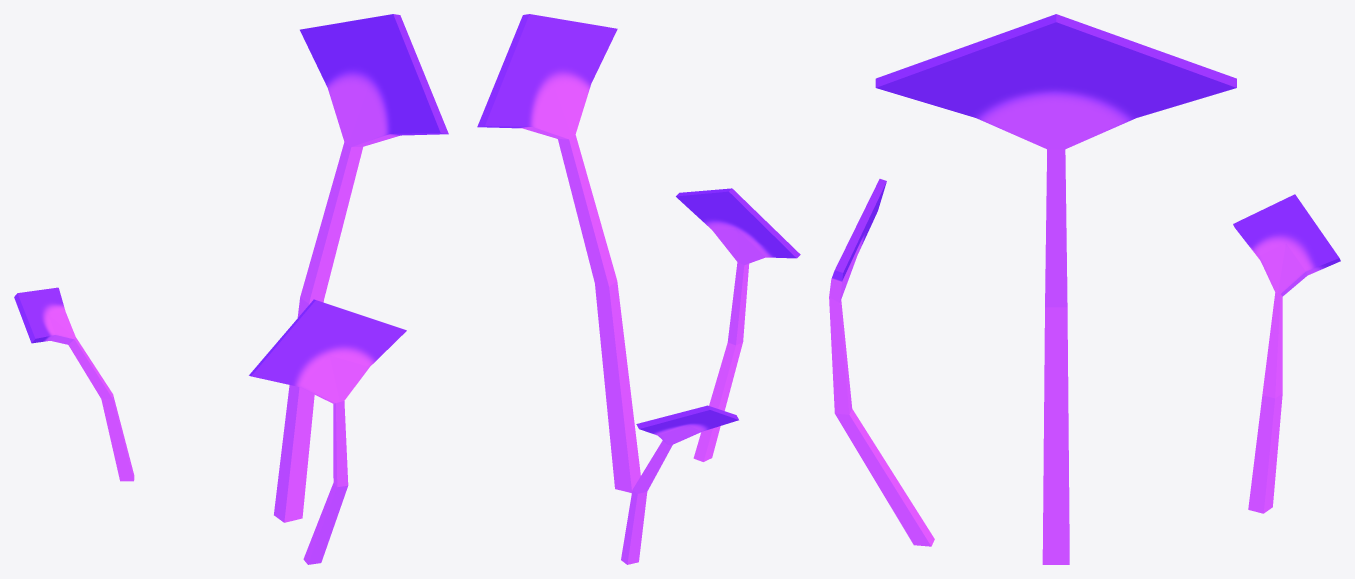
File: Herbe_A.fbx
The picture shows the model from 3 angles, left to right: view 1: azimuth 30°, elevation 25°; view 2: azimuth 150°, elevation 25°; view 3: azimuth 270°, elevation 25°; orthographic projection. The views are drawn at different scales.
Parts seen in each view (by area): view 1: Herbe_A; view 2: Herbe_A; view 3: Herbe_A.
Boxes of the visible parts, x1=… form: Herbe_A: x1=14, y1=14, x2=448, y2=564; Herbe_A: x1=477, y1=14, x2=800, y2=564; Herbe_A: x1=829, y1=14, x2=1340, y2=564.
Bounding box in the file's own units: 22.28 × 33.94 × 25.78.
